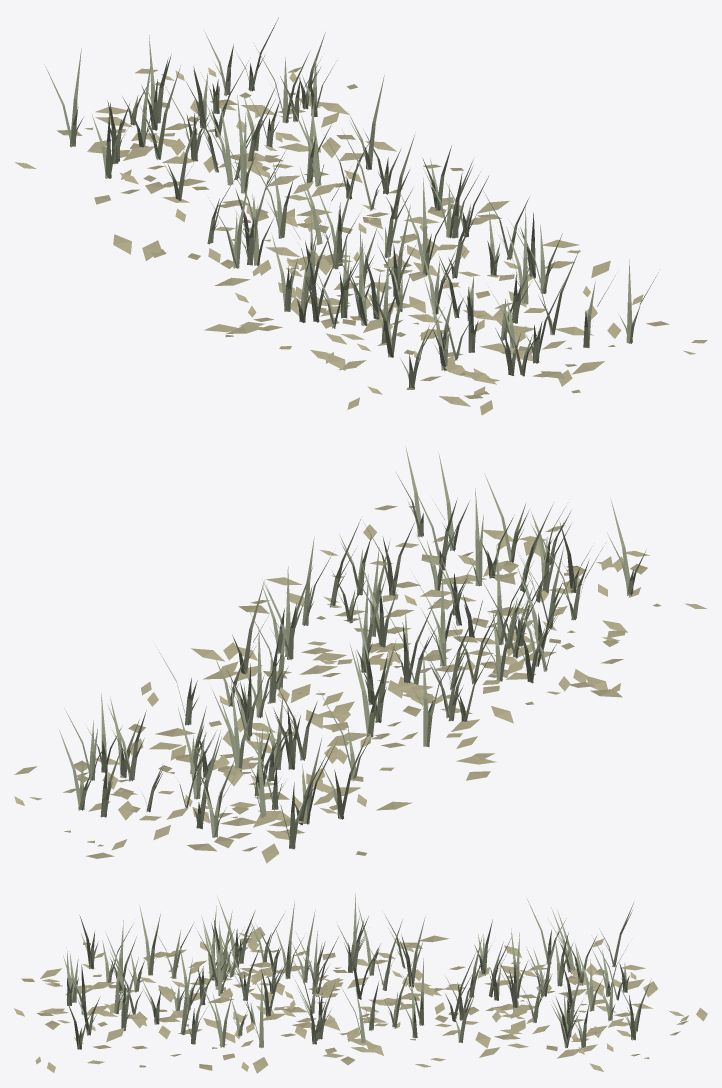
File: AE_C01_IndoorGrowth.fbx
3 renders of one model, top to bottom at view 1: azimuth 30°, elevation 25°; view 2: azimuth 150°, elevation 25°; view 3: azimuth 270°, elevation 25°, orthographic. The views are drawn at different scales.
Visible parts, largest first — view 1: AE_C01_IndoorGrowth_LOD0; view 2: AE_C01_IndoorGrowth_LOD0; view 3: AE_C01_IndoorGrowth_LOD0.
Boxes of the visible parts, left/top/right/bottom form: AE_C01_IndoorGrowth_LOD0: left=15, top=17, right=707, bottom=415; AE_C01_IndoorGrowth_LOD0: left=14, top=447, right=706, bottom=863; AE_C01_IndoorGrowth_LOD0: left=14, top=893, right=707, bottom=1073.
Size of what is drawn, in the model's own units: 249 by 55.17 by 506.
